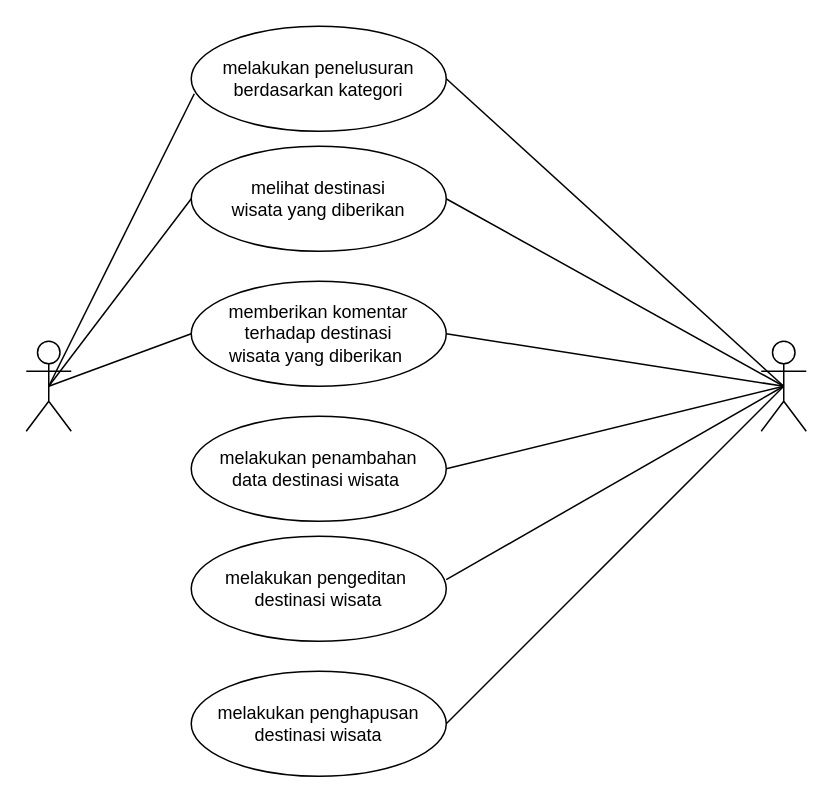
The diagram is 834 pixels wide and 803 high, and some of its shapes have lost their labels. The shapes that lost their labels are listed below. From the top down, each one's centre as x and y in pixels, then its label:
At point 48,385: "user".
At point 783,385: "admin".
